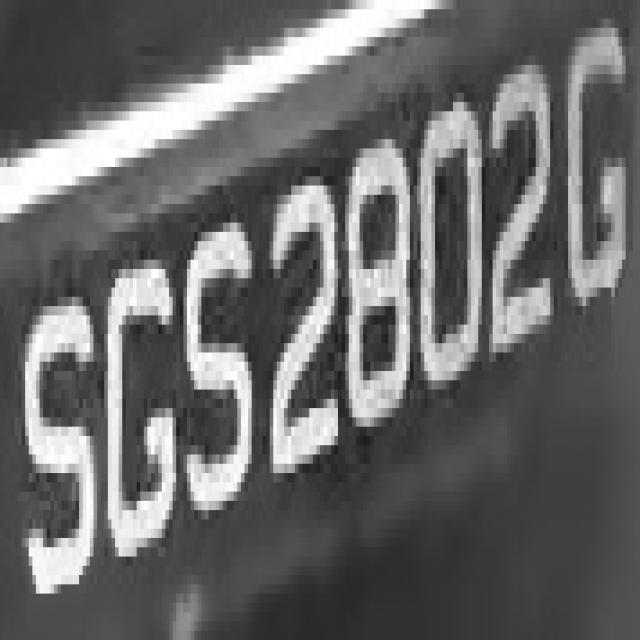0: (403, 84, 485, 418)
2: (475, 47, 557, 380), (262, 186, 349, 492)
8: (327, 111, 421, 427)
G: (97, 241, 180, 603), (550, 46, 637, 352)
S: (169, 204, 270, 547), (21, 297, 100, 621)
